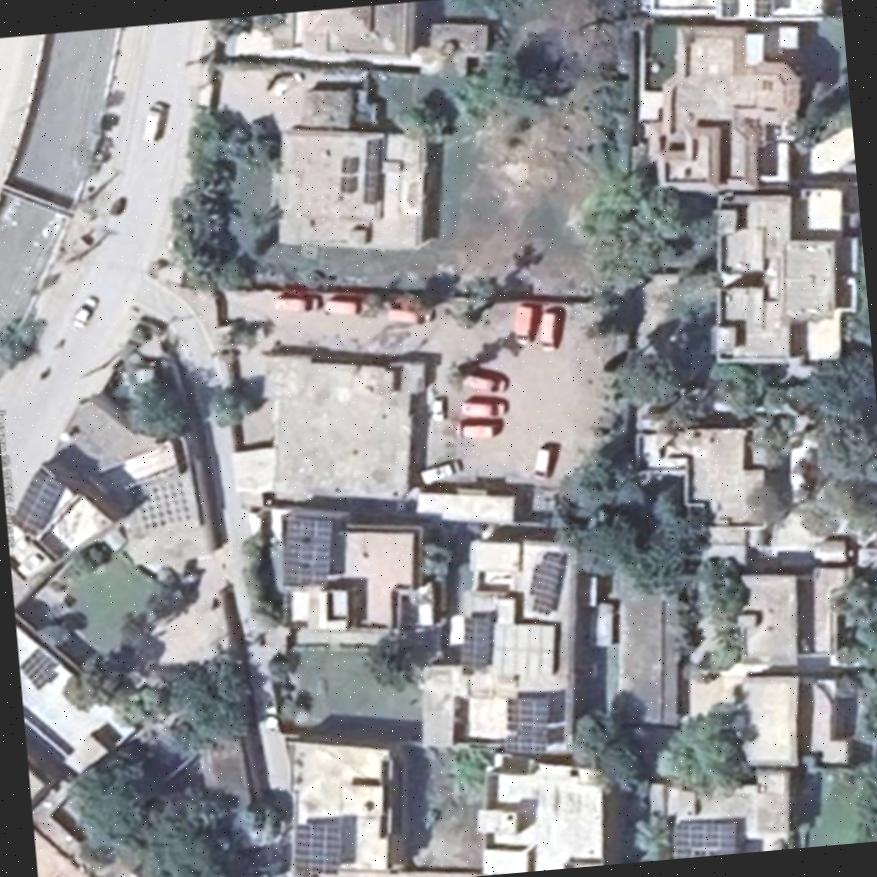Solarpanel: (283, 514, 327, 585), (13, 471, 60, 536), (290, 820, 342, 872), (505, 697, 550, 752), (672, 821, 737, 857), (530, 553, 561, 610), (459, 616, 488, 666), (20, 649, 56, 687)
